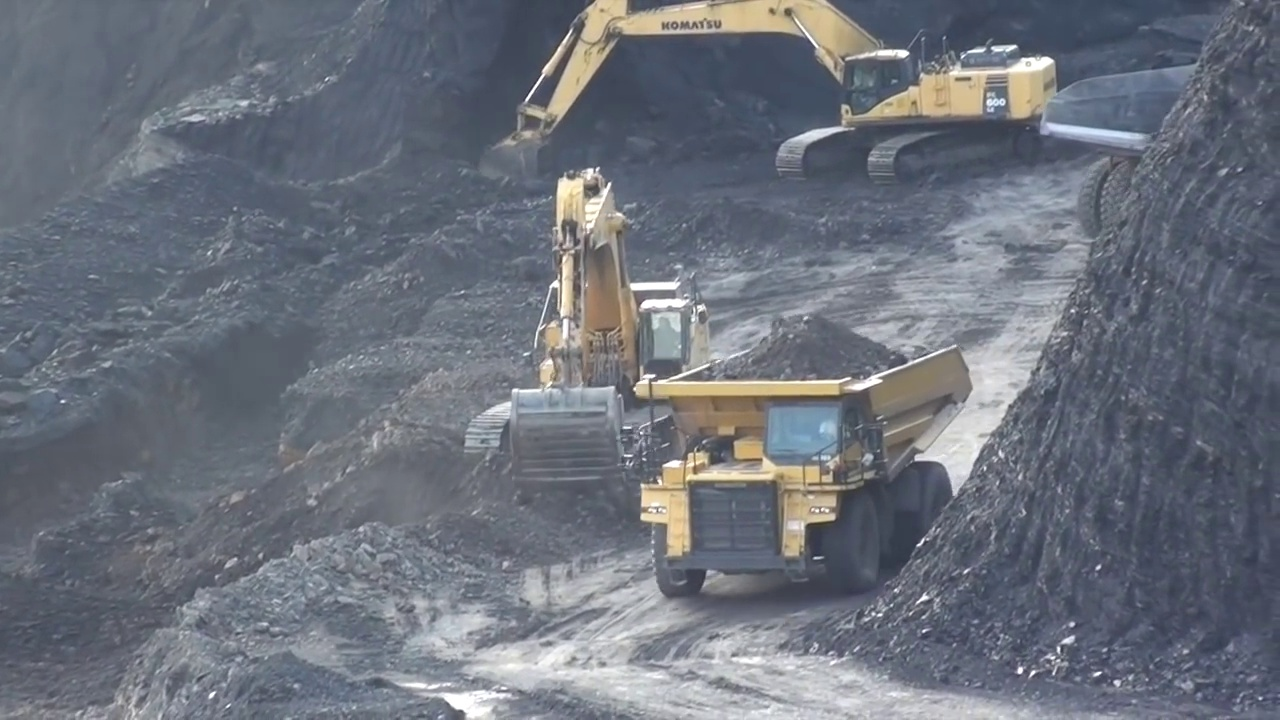dumper: (638, 335, 975, 590)
excavator: (483, 1, 1063, 188), (463, 167, 719, 497)
